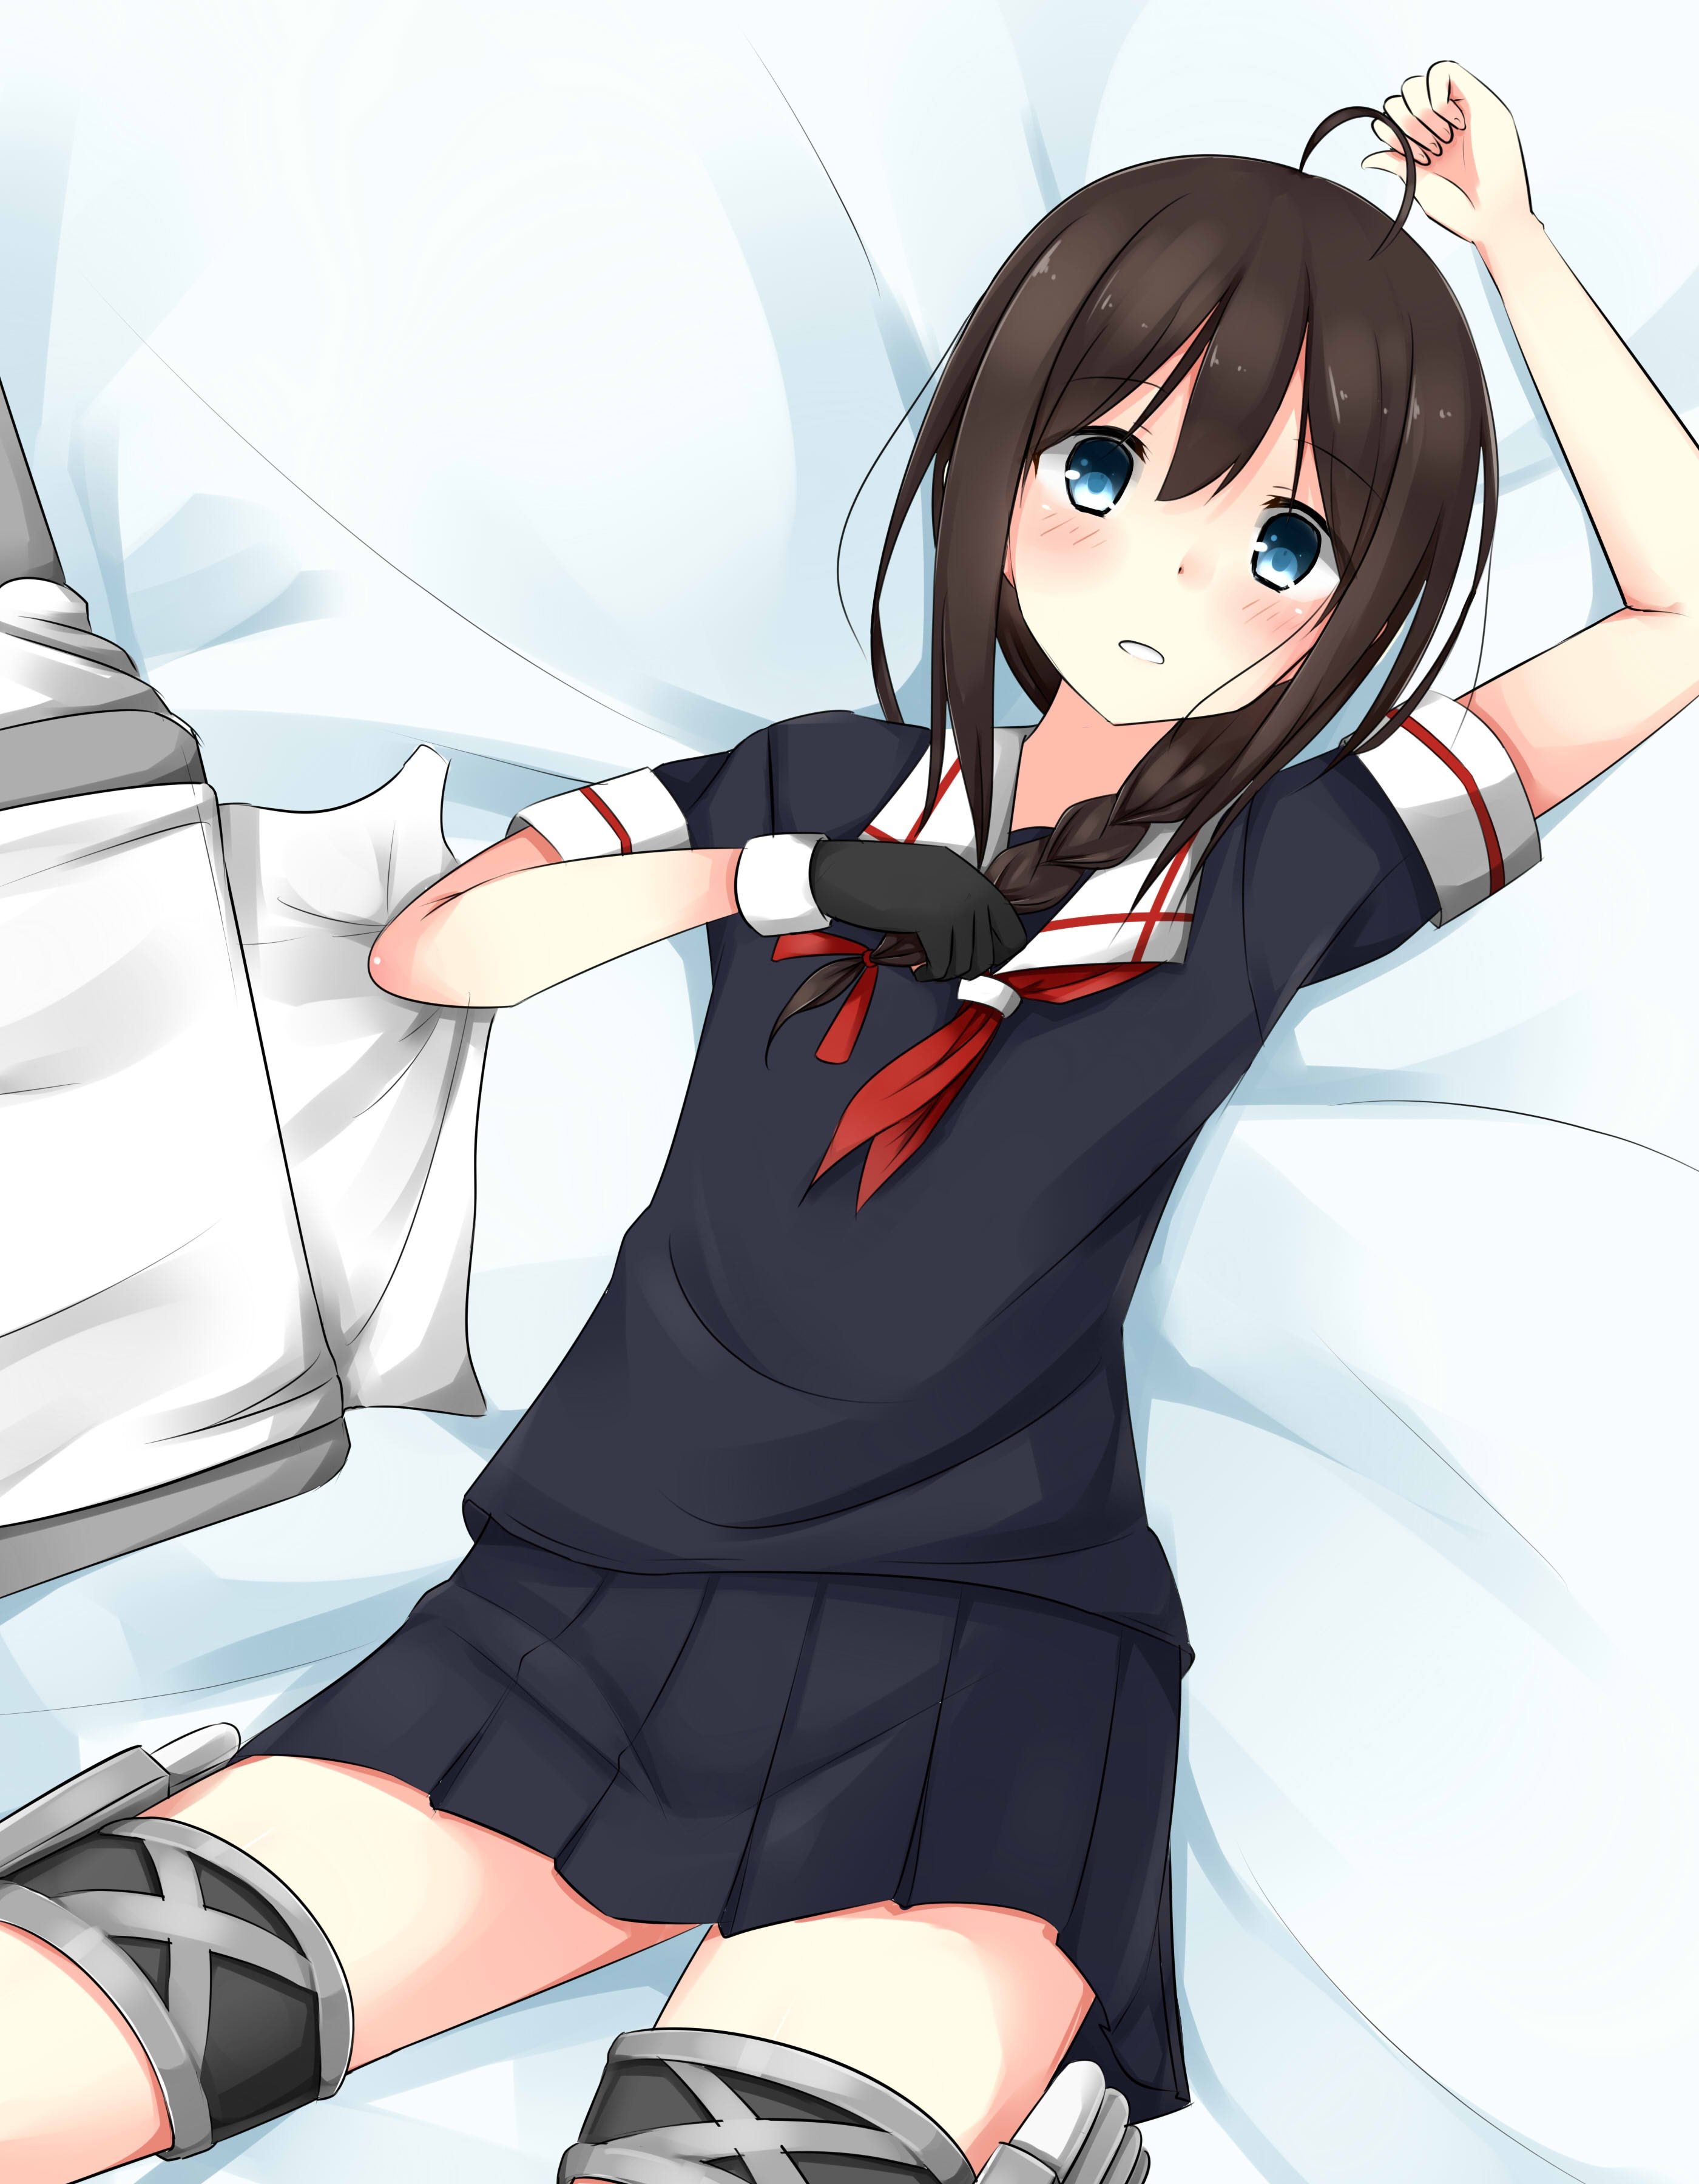纸片人正脸: (900, 132, 1539, 765)
